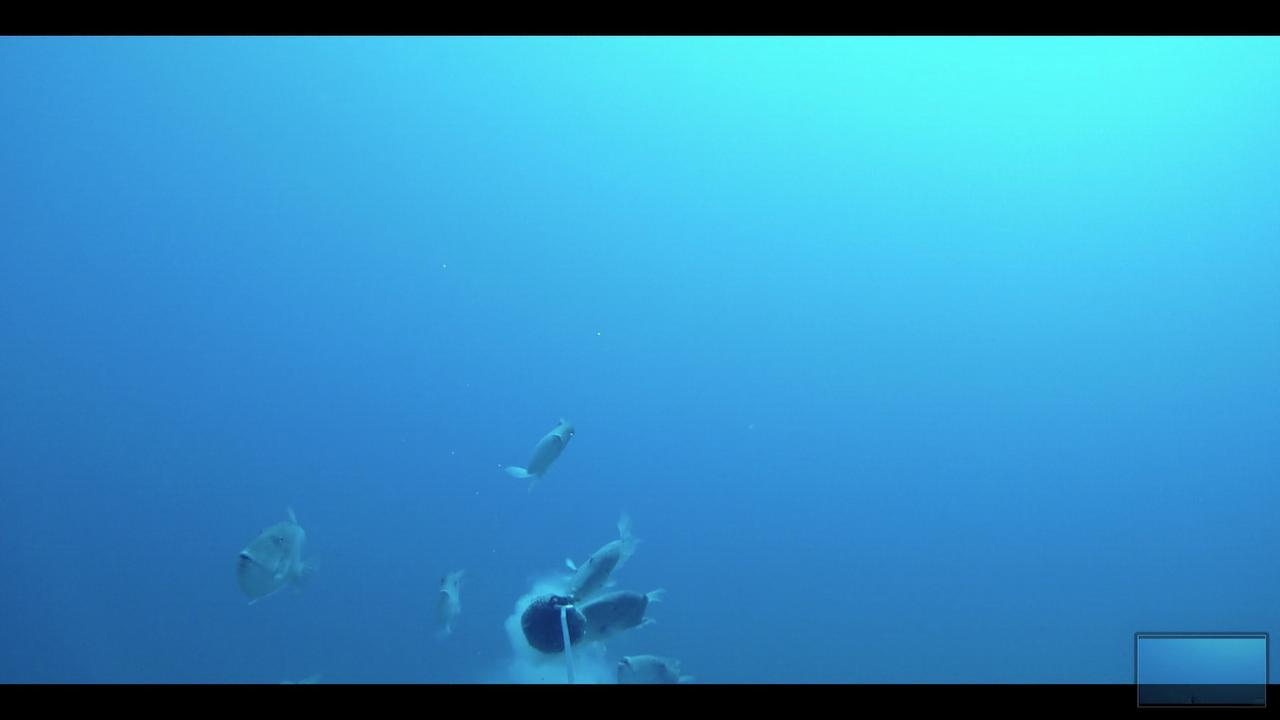balistes: (230, 507, 328, 604), (558, 511, 642, 597), (501, 413, 582, 491), (411, 562, 470, 650), (606, 642, 708, 681)
